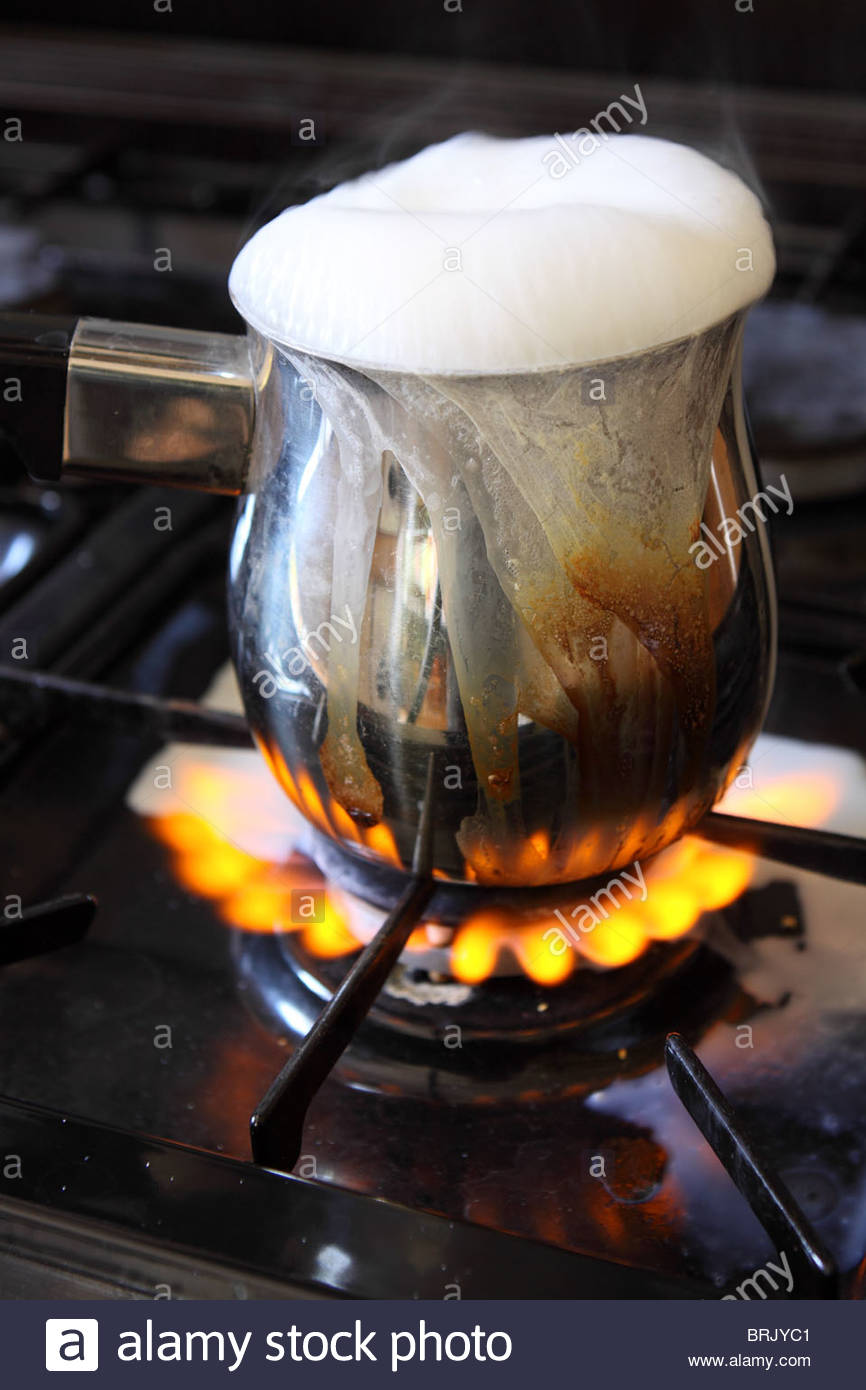Boiled: (179, 119, 780, 557)
